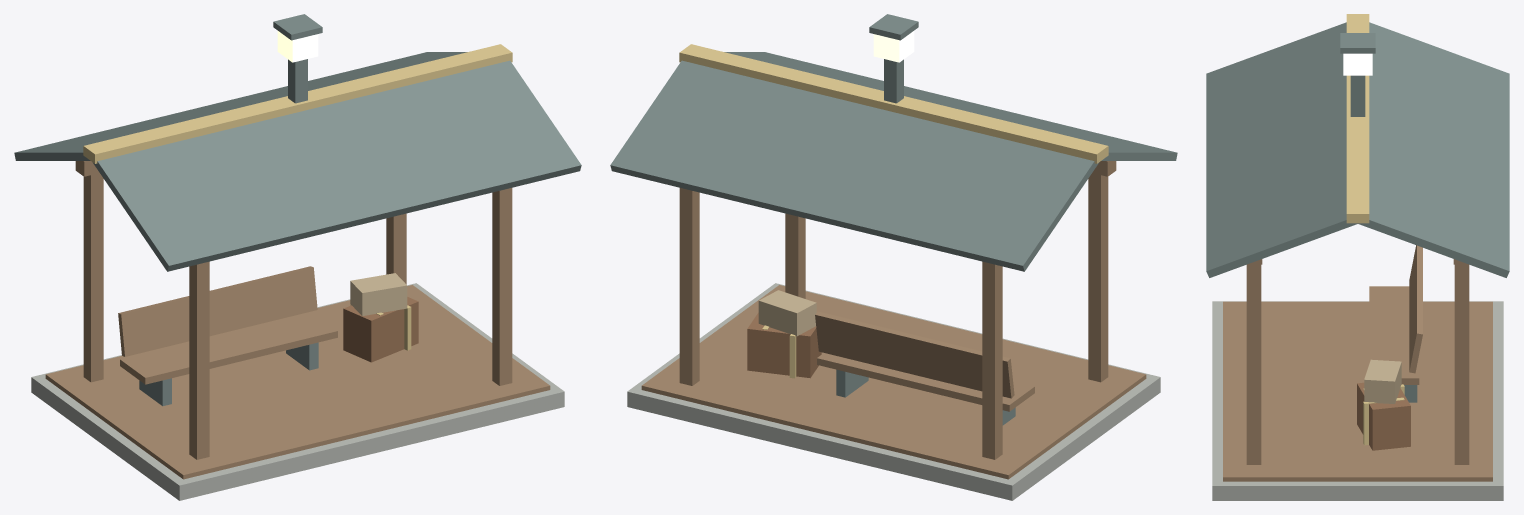
File: passenger_pavilion.glb
3 renders of one model, left to right at view 1: azimuth 30°, elevation 25°; view 2: azimuth 150°, elevation 25°; view 3: azimuth 270°, elevation 25°, orthographic.
Visible parts, largest first — view 1: Roof_Slope_Front, Platform_Deck, Platform_Base, Bench_Back, Roof_Ridge, Bench_Seat, Roof_Slope_Back, Post_-1.65_1.0, Post_1.65_-1.0, Post_-1.65_-1.0, Suitcase_Large, Suitcase_Small (+5 smaller); view 2: Roof_Slope_Back, Platform_Deck, Platform_Base, Roof_Ridge, Bench_Back, Roof_Slope_Front, Post_-1.65_-1.0, Post_1.65_1.0, Post_-1.65_1.0, Suitcase_Large, Bench_Seat, Suitcase_Small (+4 smaller); view 3: Platform_Deck, Roof_Slope_Back, Roof_Slope_Front, Platform_Base, Bench_Seat, Roof_Ridge, Post_1.65_1.0, Post_1.65_-1.0, Suitcase_Large, Bench_Back, Suitcase_Small, Beacon_Cap (+2 smaller).
Boxes of the visible parts, bbox=[...] form: Roof_Slope_Front: bbox=[92, 60, 581, 271]; Platform_Deck: bbox=[45, 285, 550, 479]; Platform_Base: bbox=[31, 283, 564, 500]; Bench_Back: bbox=[118, 266, 317, 356]; Roof_Ridge: bbox=[83, 44, 512, 163]; Bench_Seat: bbox=[120, 312, 337, 384]; Roof_Slope_Back: bbox=[14, 52, 467, 160]; Post_-1.65_1.0: bbox=[83, 173, 103, 382]; Post_1.65_-1.0: bbox=[492, 188, 512, 385]; Post_-1.65_-1.0: bbox=[189, 261, 209, 459]; Suitcase_Large: bbox=[343, 297, 418, 362]; Suitcase_Small: bbox=[350, 273, 407, 316]; Roof_Slope_Back: bbox=[610, 60, 1099, 271]; Platform_Deck: bbox=[641, 285, 1146, 479]; Platform_Base: bbox=[627, 283, 1160, 500]; Roof_Ridge: bbox=[679, 44, 1108, 163]; Bench_Back: bbox=[815, 311, 1014, 398]; Roof_Slope_Front: bbox=[724, 52, 1177, 160]; Post_-1.65_-1.0: bbox=[1088, 173, 1108, 382]; Post_1.65_1.0: bbox=[679, 188, 699, 385]; Post_-1.65_1.0: bbox=[982, 261, 1002, 459]; Suitcase_Large: bbox=[747, 312, 821, 378]; Bench_Seat: bbox=[817, 353, 1034, 411]; Suitcase_Small: bbox=[758, 290, 816, 336]; Platform_Deck: bbox=[1223, 301, 1492, 481]; Roof_Slope_Back: bbox=[1357, 22, 1509, 277]; Roof_Slope_Front: bbox=[1206, 22, 1357, 277]; Platform_Base: bbox=[1212, 301, 1503, 500]; Bench_Seat: bbox=[1369, 286, 1419, 384]; Roof_Ridge: bbox=[1346, 14, 1369, 223]; Post_1.65_1.0: bbox=[1454, 264, 1469, 464]; Post_1.65_-1.0: bbox=[1246, 264, 1261, 464]; Suitcase_Large: bbox=[1357, 382, 1410, 450]; Bench_Back: bbox=[1409, 245, 1422, 373]; Suitcase_Small: bbox=[1364, 359, 1401, 403]; Beacon_Cap: bbox=[1340, 33, 1375, 53].
Bounding box in the file's own units: 4.55 × 3.91 × 2.92.
